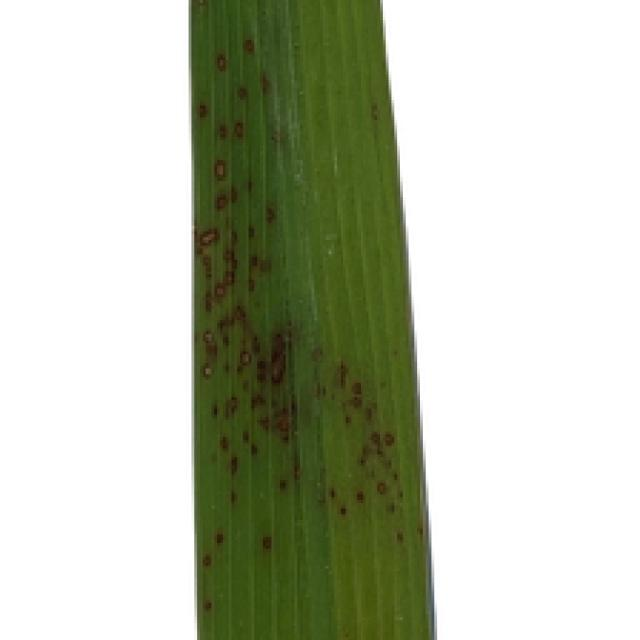Rice___Brown_Spot: (190, 3, 434, 637)
